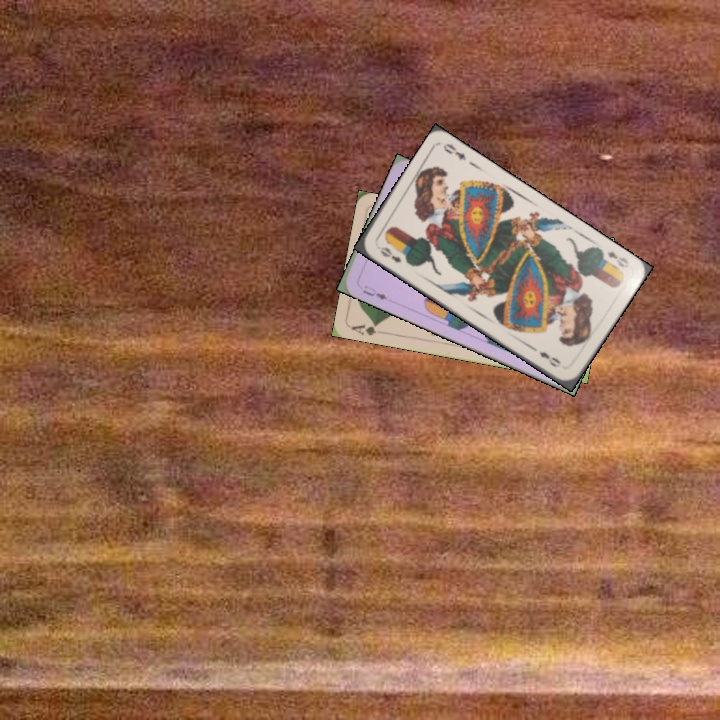EO: (603, 247, 631, 271), (375, 243, 404, 266)
EU: (359, 281, 390, 303)
GA: (348, 319, 381, 338)
